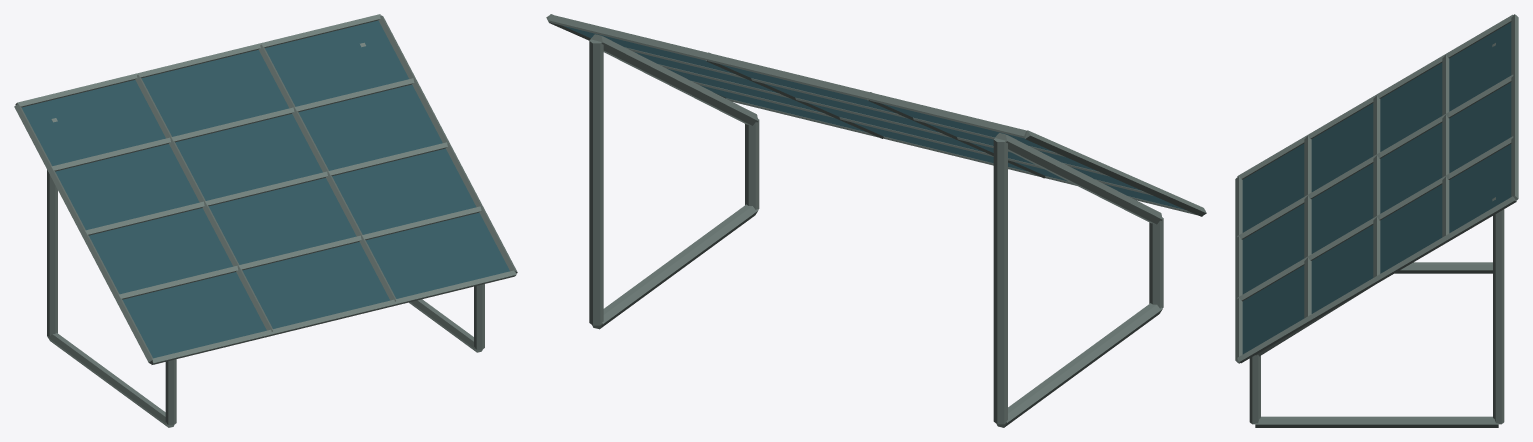
3 views of the same model, side by side, from view 1: azimuth 30°, elevation 25°; view 2: azimuth 150°, elevation 25°; view 3: azimuth 270°, elevation 25° (orthographic). The views are drawn at different scales.
Visible parts, largest first — view 1: a157; view 2: a157; view 3: a157.
Boxes of the visible parts, x1,y1,x2,y2 form: a157: [14, 14, 517, 427]; a157: [546, 14, 1206, 427]; a157: [1235, 14, 1518, 427].
Size of the model in its own units: 1.08 by 0.6661 by 0.698.
